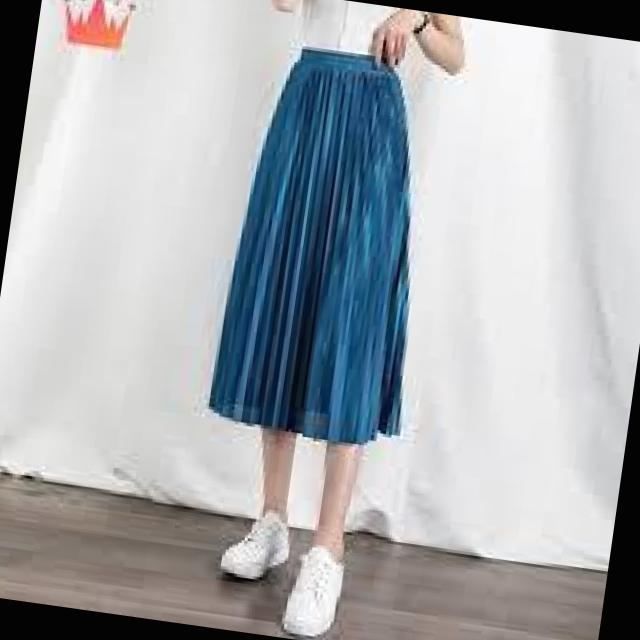skirt: (186, 25, 498, 486)
